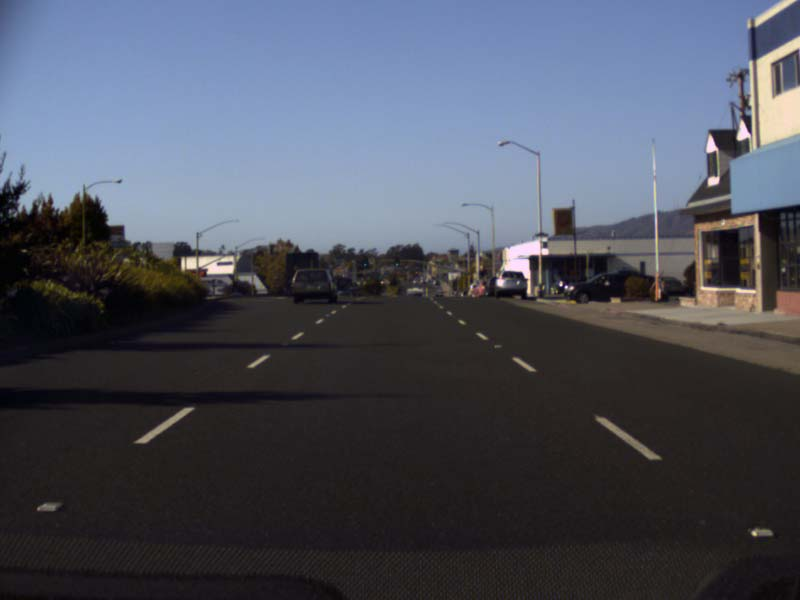Green: (394, 255, 399, 266), (362, 259, 368, 268)
Red: (414, 270, 417, 275), (404, 265, 407, 269)
